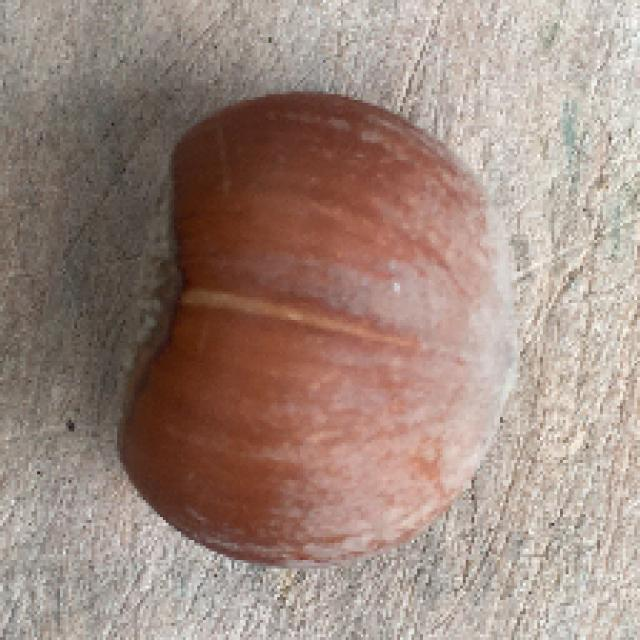QualityHazelnut: (112, 89, 527, 570)
